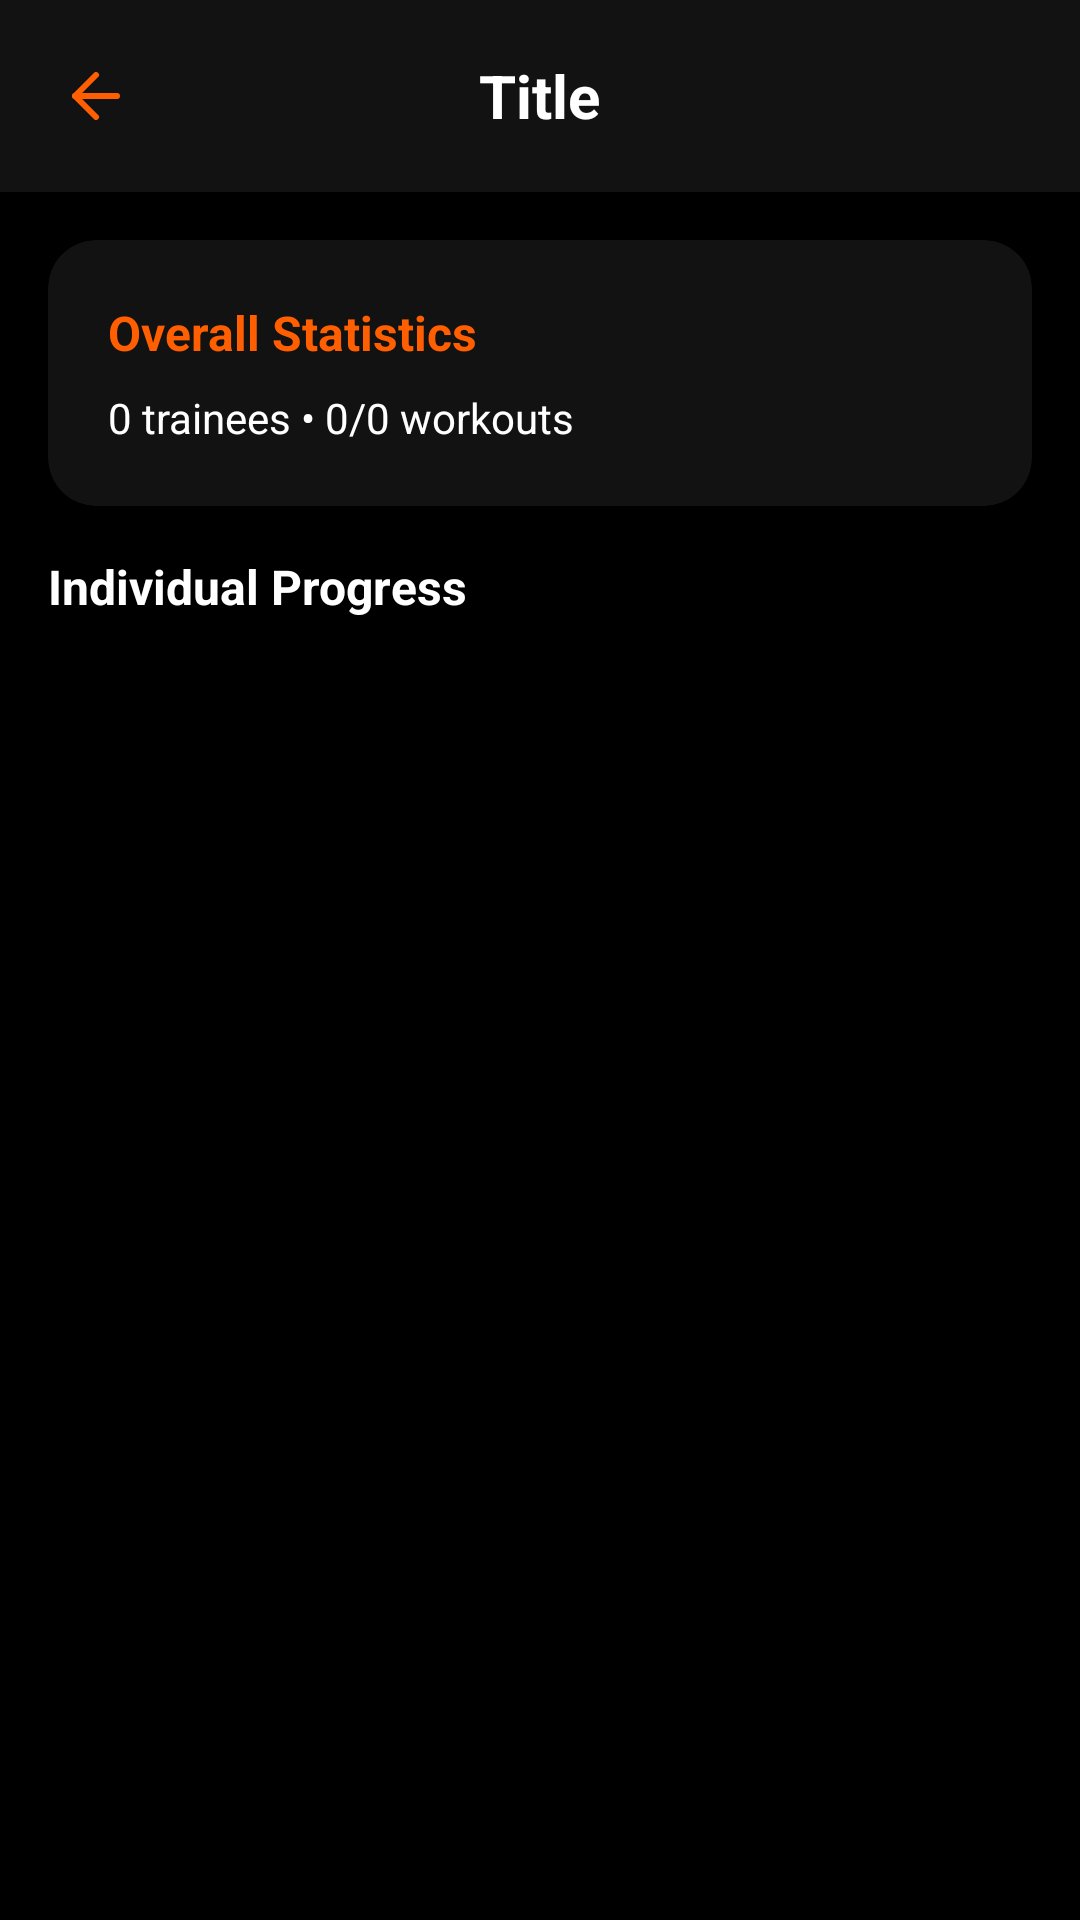

Named icons in this screenshot (1080 × 1920) and their bounding boxes, detection(x1, y1, x2, y2):
go back: detection(72, 72, 120, 120)
